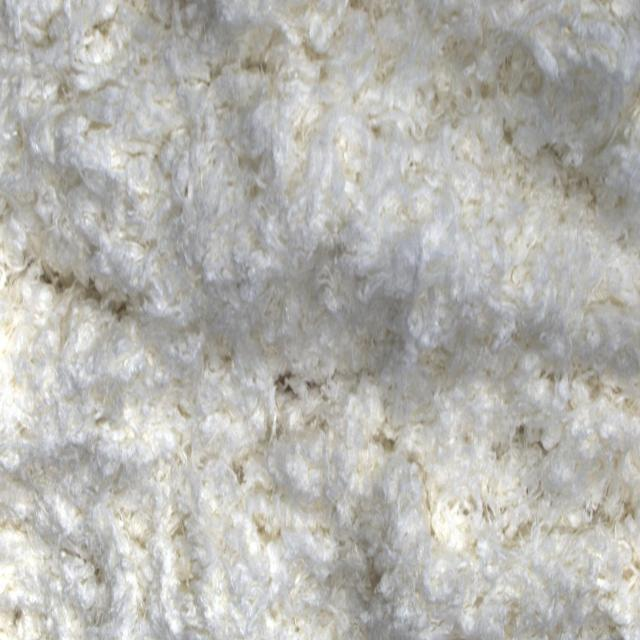dust: (270, 370, 334, 402), (36, 264, 77, 295)
